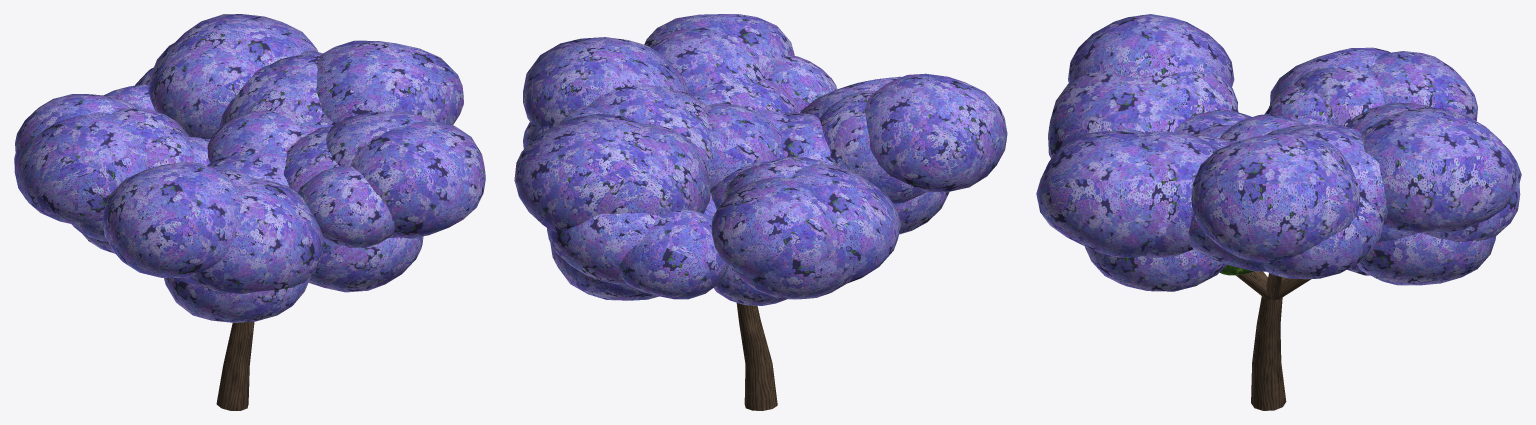
File: Jacaranda.obj
3 views of the same model, side by side, from view 1: azimuth 30°, elevation 25°; view 2: azimuth 150°, elevation 25°; view 3: azimuth 270°, elevation 25° (orthographic). The views are drawn at different scales.
Parts seen in each view (by area): view 1: Jacaranda; view 2: Jacaranda; view 3: Jacaranda.
Part boxes in pixels (x1=…): Jacaranda: x1=14, y1=14, x2=485, y2=410; Jacaranda: x1=514, y1=14, x2=1007, y2=410; Jacaranda: x1=1036, y1=14, x2=1521, y2=410.
Bounding box in the file's own units: 12.71 × 9.72 × 12.64.
3 materials, 3 textured.
